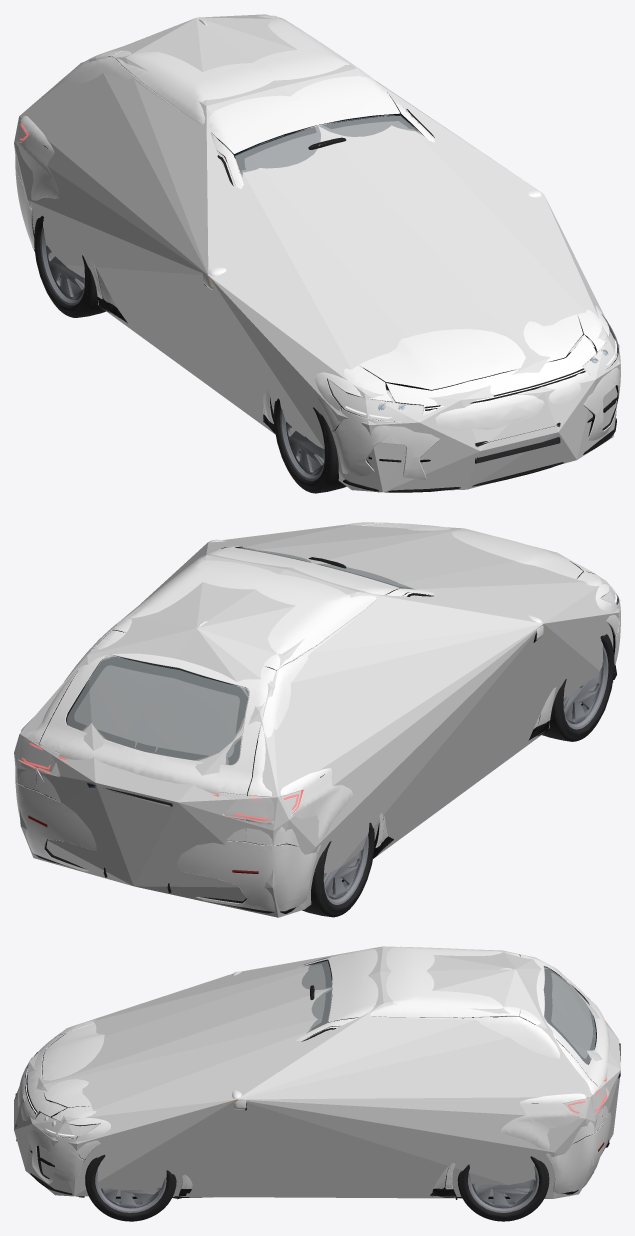
Rendered from bosfor_kivilcim_lod0.glb.
3 renders of one model, top to bottom at view 1: azimuth 30°, elevation 25°; view 2: azimuth 150°, elevation 25°; view 3: azimuth 270°, elevation 25°, orthographic. The views are drawn at different scales.
Visible parts, largest first — view 1: col_body, body, trim, glass, wheel_FR, wheel_RR, lights_front; view 2: col_body, body, glass, wheel_FR, wheel_RR, lights_front, trim; view 3: col_body, body, glass, wheel_RL, wheel_FL, trim, lights_front.
Part boxes in pixels (left/top/right/bottom): col_body: left=14, top=14, right=620, bottom=492; body: left=15, top=14, right=620, bottom=480; trim: left=31, top=56, right=618, bottom=492; glass: left=234, top=114, right=419, bottom=176; wheel_FR: left=274, top=398, right=346, bottom=493; wheel_RR: left=34, top=216, right=105, bottom=317; lights_front: left=17, top=121, right=618, bottom=420; col_body: left=14, top=524, right=620, bottom=917; body: left=15, top=522, right=620, bottom=911; glass: left=66, top=547, right=414, bottom=764; wheel_FR: left=542, top=634, right=614, bottom=741; wheel_RR: left=302, top=822, right=374, bottom=917; lights_front: left=19, top=584, right=618, bottom=820; trim: left=16, top=546, right=618, bottom=903; col_body: left=14, top=946, right=620, bottom=1198; body: left=18, top=946, right=611, bottom=1193; glass: left=302, top=960, right=596, bottom=1064; wheel_RL: left=457, top=1156, right=549, bottom=1221; wheel_FL: left=85, top=1154, right=176, bottom=1221; trim: left=15, top=954, right=620, bottom=1196; lights_front: left=25, top=1052, right=606, bottom=1137.
Size of the model in its own units: 2.1 by 1.55 by 4.24.
12 materials, 1 textured.
